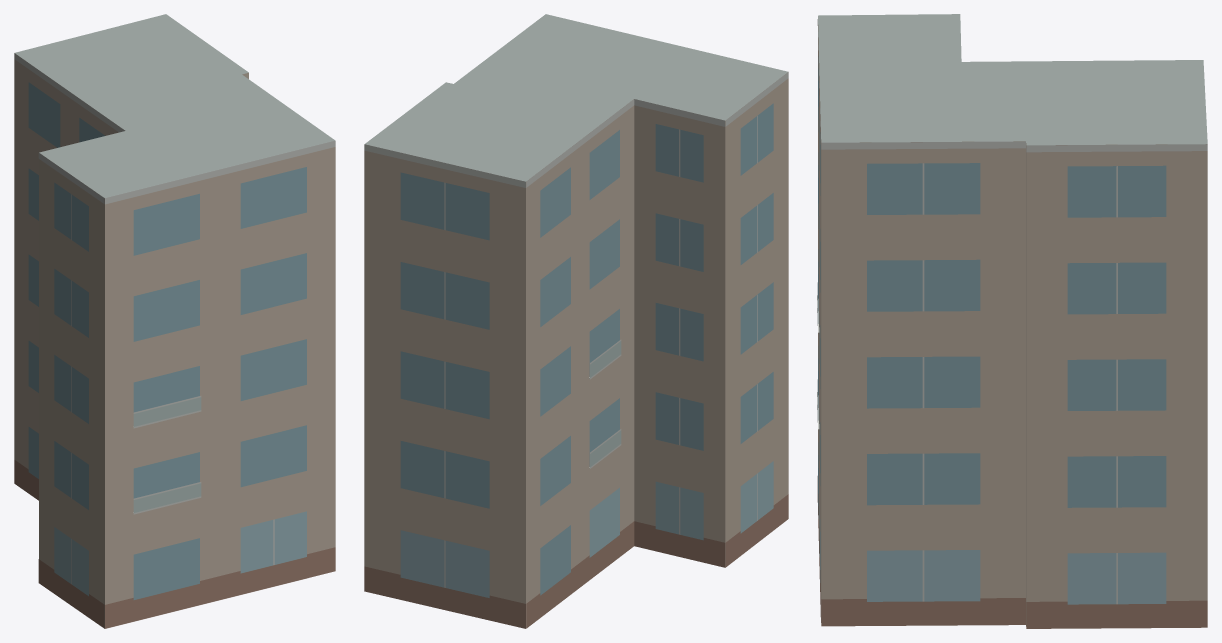
Rendered from survey-upis-33004807.glb.
3 renders of one model, left to right at view 1: azimuth 30°, elevation 25°; view 2: azimuth 150°, elevation 25°; view 3: azimuth 270°, elevation 25°, orthographic. The views are drawn at different scales.
Visible parts, largest first — view 1: survey-upis-33004807.tmp; view 2: survey-upis-33004807.tmp; view 3: survey-upis-33004807.tmp.
Part boxes in pixels (box(x1,y1,x2,y2)): survey-upis-33004807.tmp: box(14, 14, 335, 628); survey-upis-33004807.tmp: box(364, 14, 788, 628); survey-upis-33004807.tmp: box(817, 14, 1207, 628).
Size of the model in its own units: 9.91 by 17 by 12.45.
